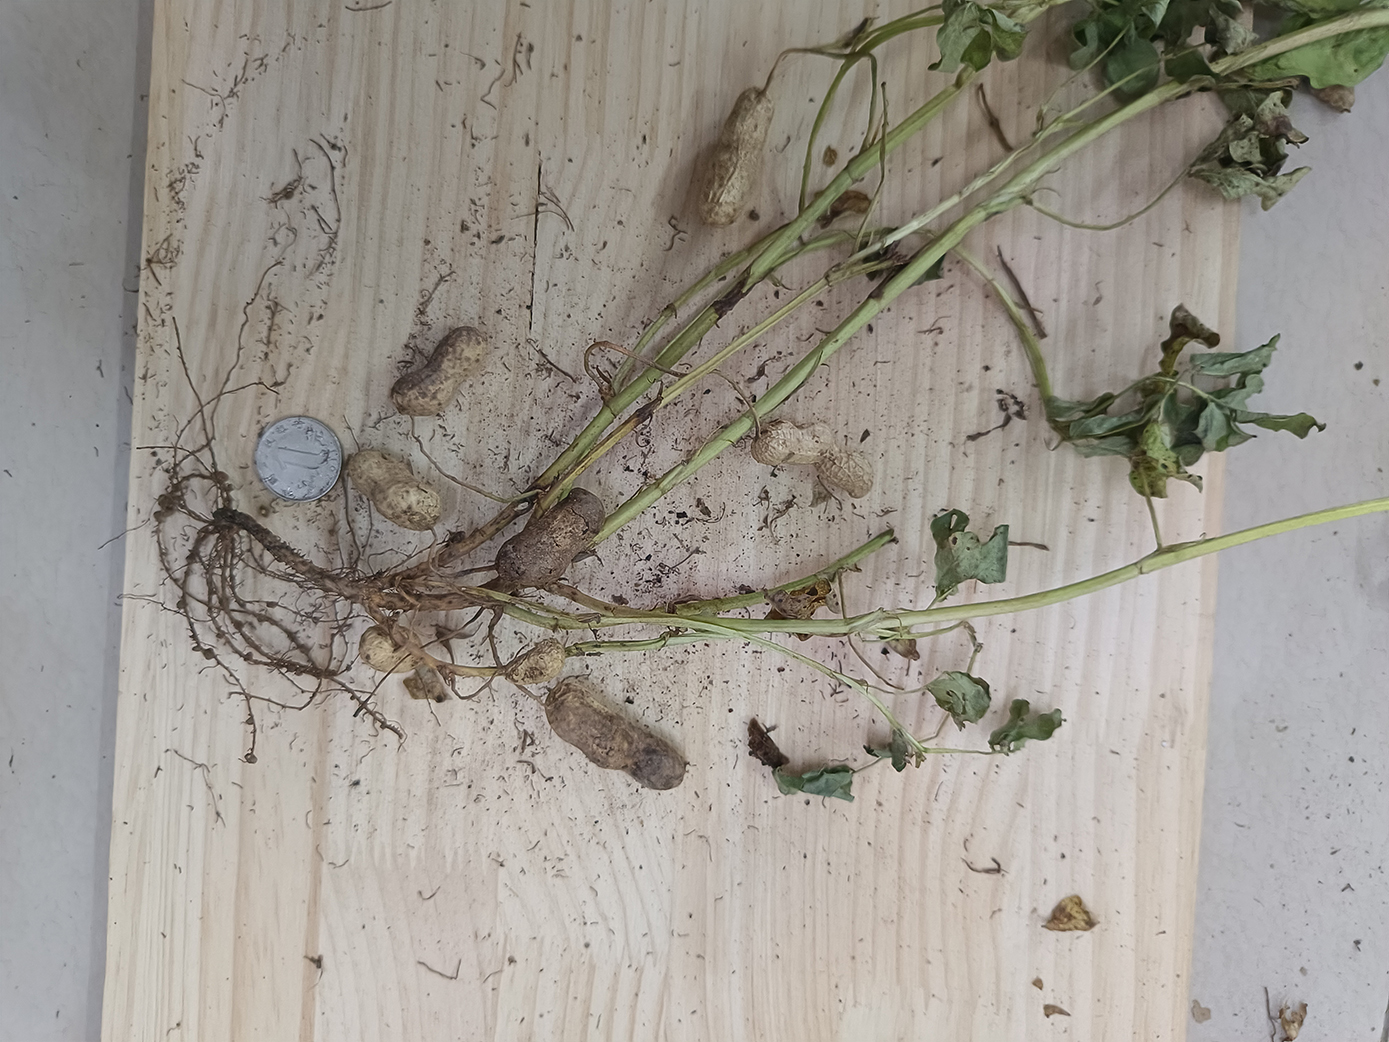h: (697, 86, 778, 225), (751, 419, 873, 499), (389, 325, 486, 415), (346, 449, 440, 529), (359, 625, 426, 674)
l: (546, 679, 687, 791), (497, 488, 606, 593), (505, 639, 567, 686)
